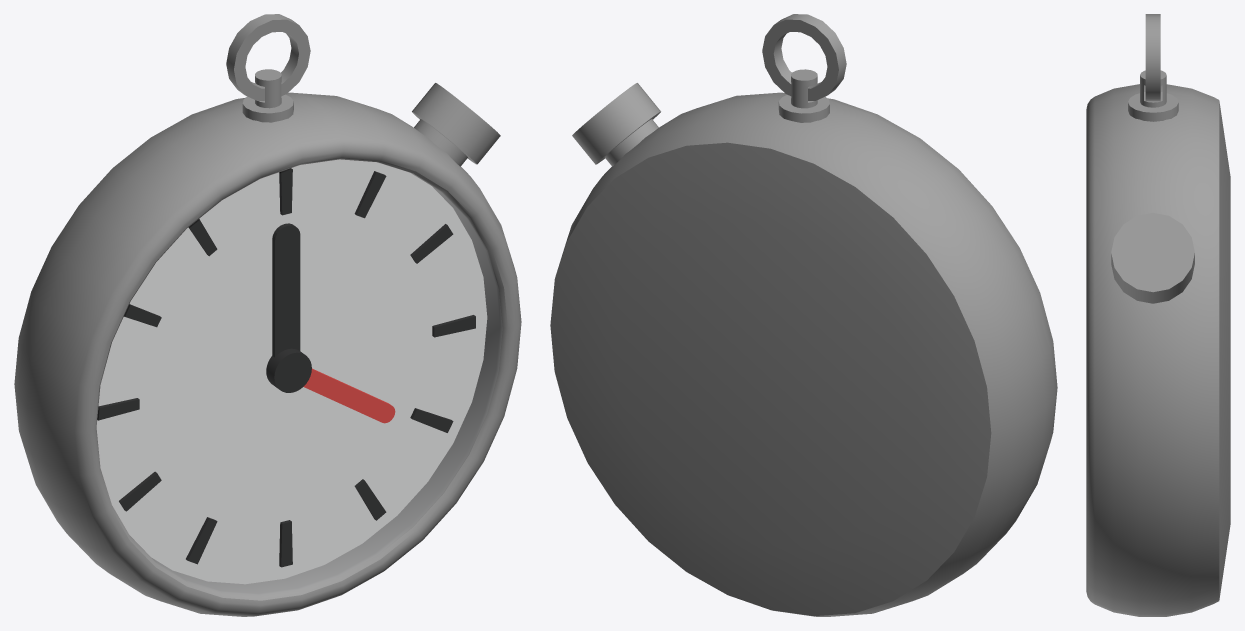
The model's file is stopwatch.glb.
The picture shows the model from 3 angles, left to right: view 1: azimuth 30°, elevation 25°; view 2: azimuth 150°, elevation 25°; view 3: azimuth 270°, elevation 25°; orthographic projection.
Visible parts, largest first — view 1: Circle.2419; view 2: Circle.2419; view 3: Circle.2419.
Part boxes in pixels (x1=…): Circle.2419: x1=14, y1=14, x2=521, y2=616; Circle.2419: x1=550, y1=14, x2=1057, y2=616; Circle.2419: x1=1086, y1=14, x2=1230, y2=616.
Bounding box in the file's own units: 1.98 × 2.36 × 0.5359.
2 materials, 1 textured.
